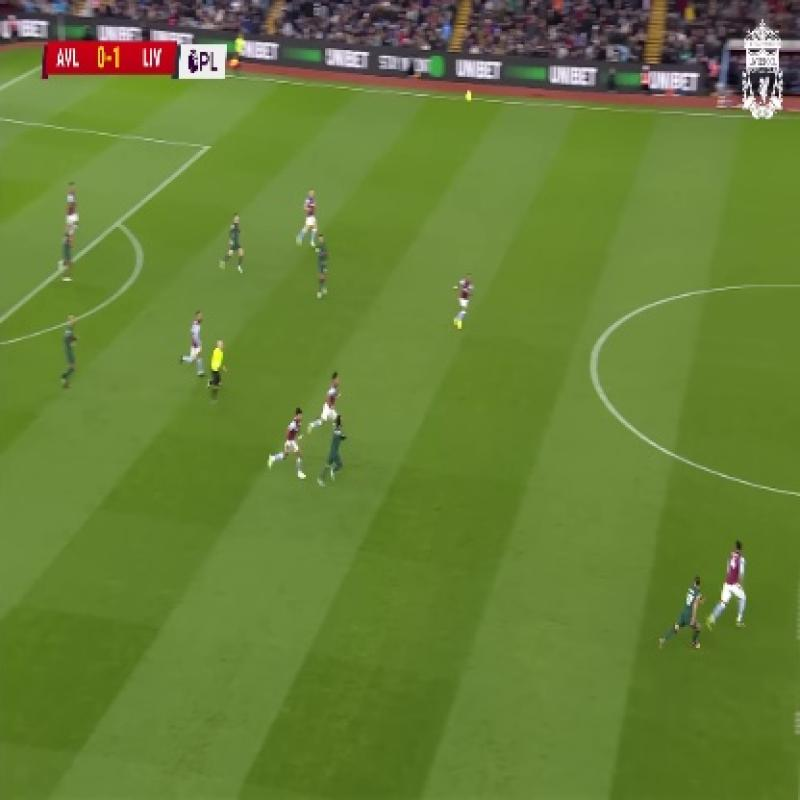10: (108, 209, 125, 233)
9: (196, 132, 216, 158)
c: (567, 340, 619, 378)
